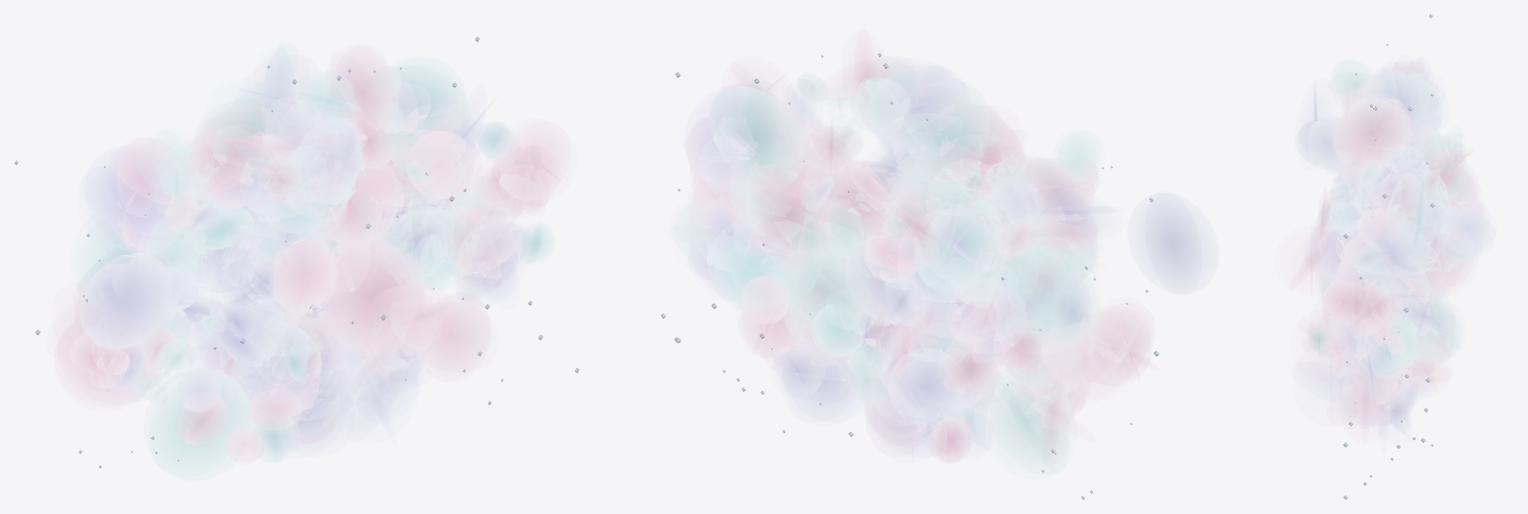
3 views of the same model, side by side, from view 1: azimuth 30°, elevation 25°; view 2: azimuth 150°, elevation 25°; view 3: azimuth 270°, elevation 25° (orthographic). The views are drawn at different scales.
Bounding box in the file's own units: 6.03 × 4.63 × 2.82.
